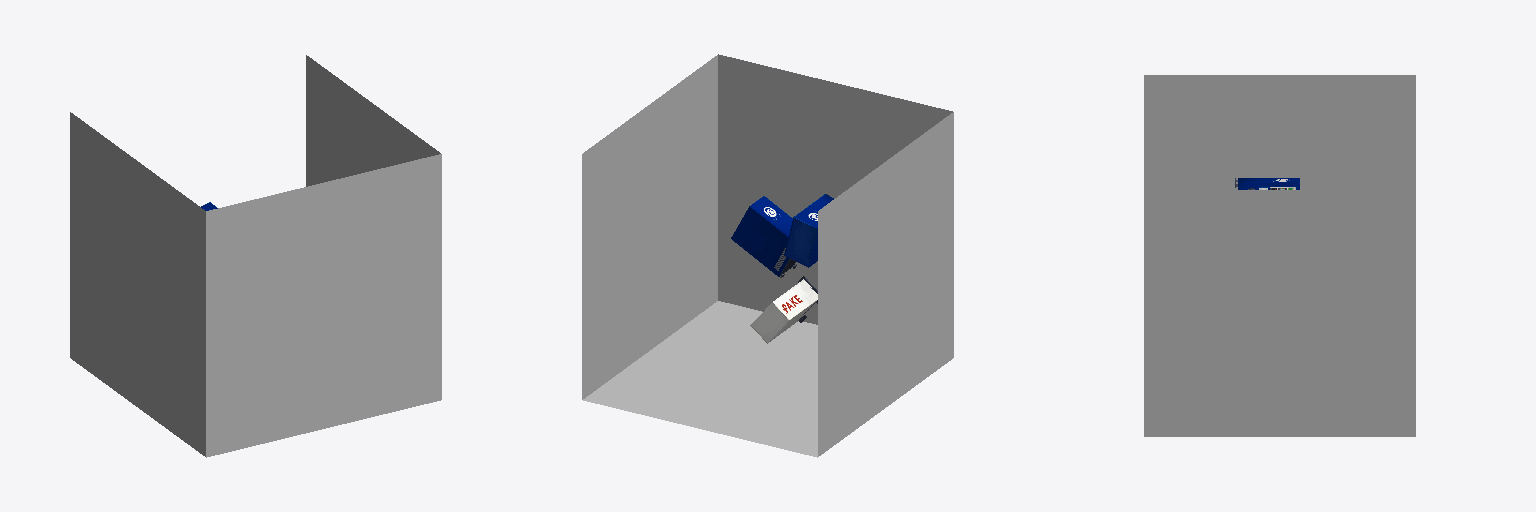
3 renders of one model, left to right at view 1: azimuth 30°, elevation 25°; view 2: azimuth 150°, elevation 25°; view 3: azimuth 270°, elevation 25°, orthographic.
Visible parts, largest first — view 1: Cube_Cube.001; view 2: Cube_Cube.001, Plane, Plane.002, Plane.005; view 3: Cube_Cube.001, Plane.005.
Boxes of the visible parts, x1,y1,x2,y2 form: Cube_Cube.001: [70, 55, 441, 457]; Cube_Cube.001: [582, 54, 953, 457]; Plane: [731, 196, 795, 276]; Plane.002: [750, 279, 817, 343]; Plane.005: [784, 194, 833, 267]; Cube_Cube.001: [1144, 75, 1415, 436]; Plane.005: [1238, 178, 1299, 189].
Bounding box in the file's own units: 9.48 × 9.48 × 9.48.
3 materials, 1 textured.